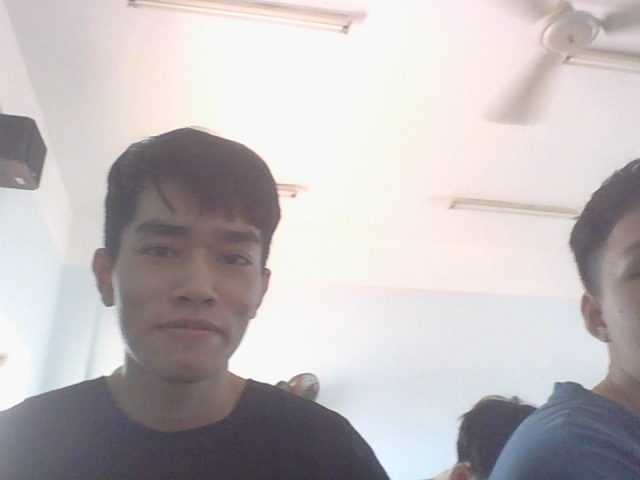real: (84, 110, 291, 404)
